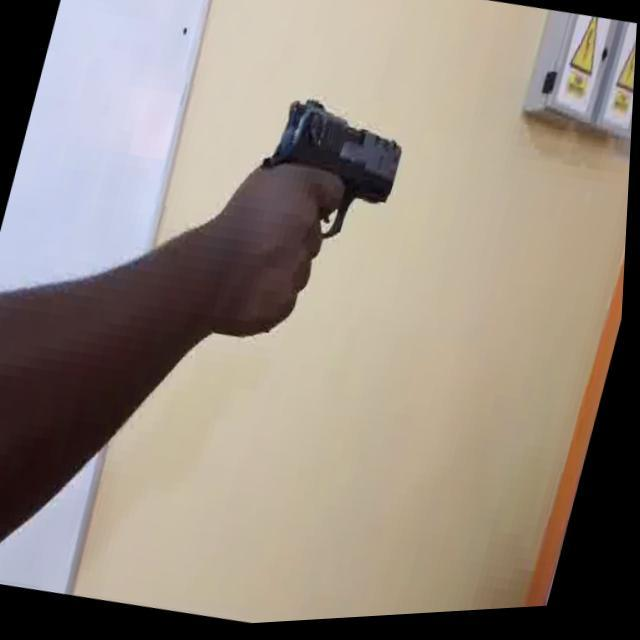weapon: (247, 88, 416, 257)
